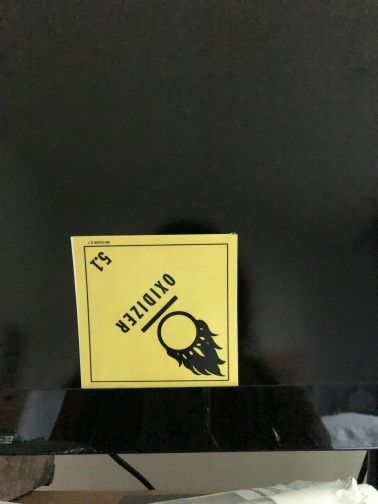Oxidizer: (69, 234, 241, 388)
